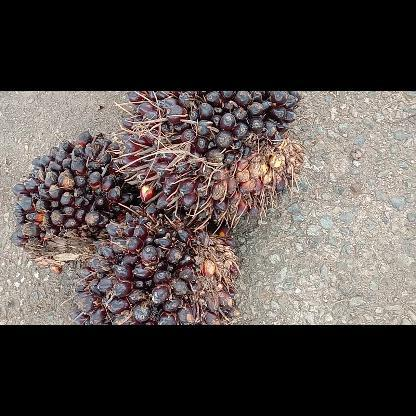TBS mentah: (120, 91, 300, 219), (70, 204, 238, 324), (10, 130, 134, 270)
